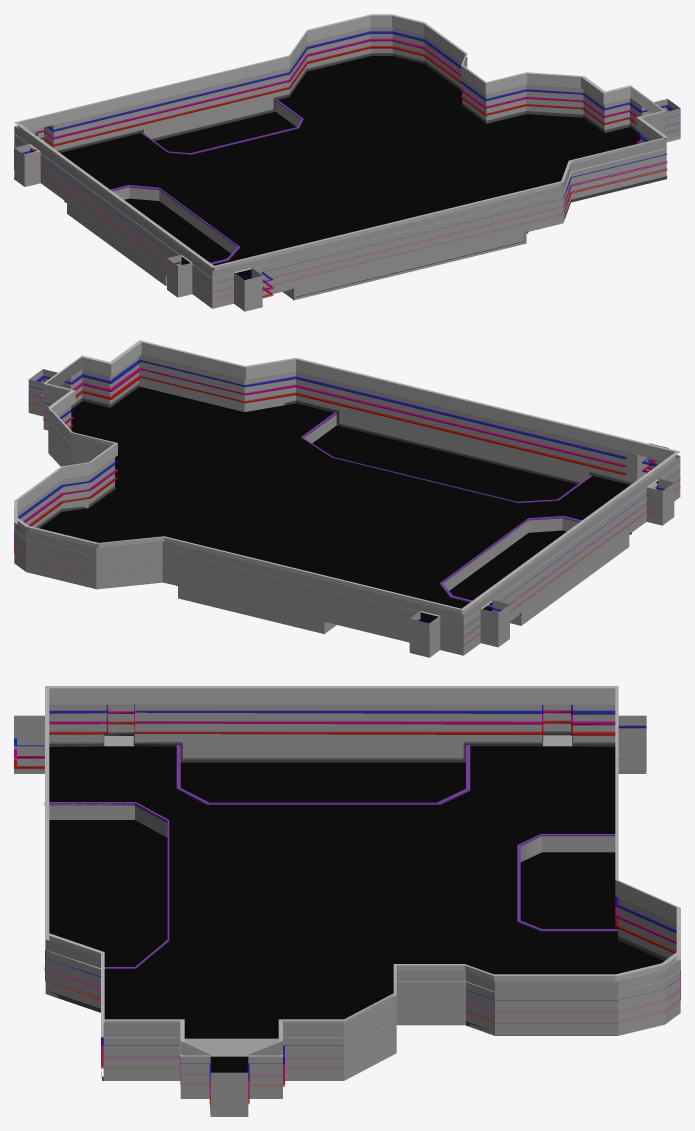
File: Environment_Mesh_1.0.fbx
The picture shows the model from 3 angles, top to bottom: view 1: azimuth 30°, elevation 25°; view 2: azimuth 150°, elevation 25°; view 3: azimuth 270°, elevation 25°; orthographic projection. The views are drawn at different scales.
Visible parts, largest first — view 1: Environment_Mesh; view 2: Environment_Mesh; view 3: Environment_Mesh.
Part boxes in pixels (x1=…): Environment_Mesh: x1=14, y1=14, x2=680, y2=311; Environment_Mesh: x1=14, y1=340, x2=680, y2=657; Environment_Mesh: x1=14, y1=686, x2=680, y2=1116.
Size of the model in its own units: 14746 by 1379 by 10882.
